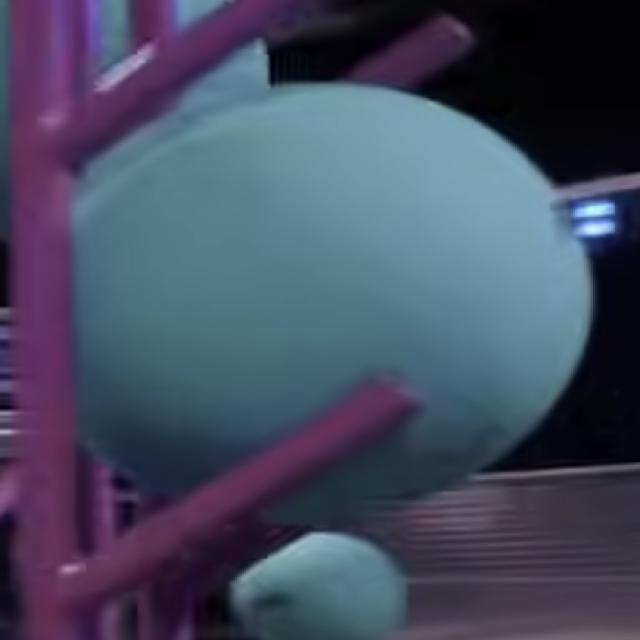Algae: (69, 82, 594, 522), (0, 0, 266, 233), (230, 536, 406, 640)
Reef: (64, 374, 421, 615), (54, 0, 282, 159), (350, 18, 472, 86)
